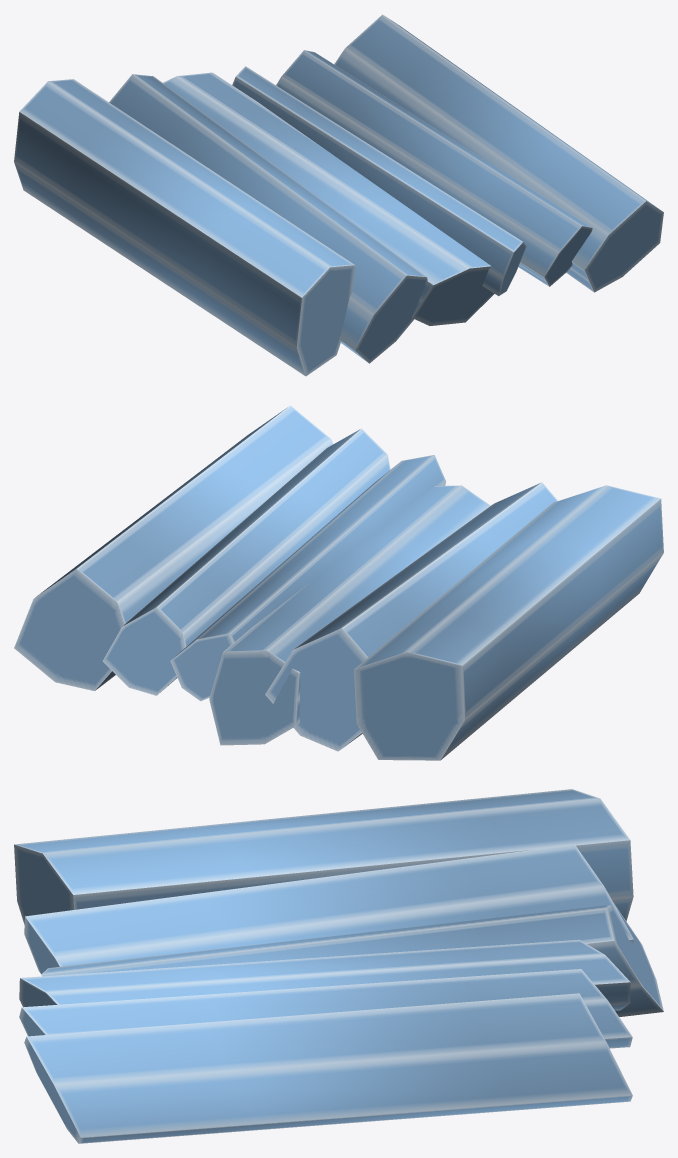
The model's file is floor_crystal_pipes_03.fbx.
3 views of the same model, one above another, from view 1: azimuth 30°, elevation 25°; view 2: azimuth 150°, elevation 25°; view 3: azimuth 270°, elevation 25° (orthographic). The views are drawn at different scales.
Visible parts, largest first — view 1: floor_crystal_pipes_03; view 2: floor_crystal_pipes_03; view 3: floor_crystal_pipes_03.
Boxes of the visible parts, box(x1,y1,x2,y2) form: floor_crystal_pipes_03: box(14, 14, 663, 376); floor_crystal_pipes_03: box(14, 405, 663, 760); floor_crystal_pipes_03: box(14, 789, 663, 1143).
Bounding box in the file's own units: 1.38 × 0.4323 × 1.51.
Materials: 1 (1 with a texture image).
